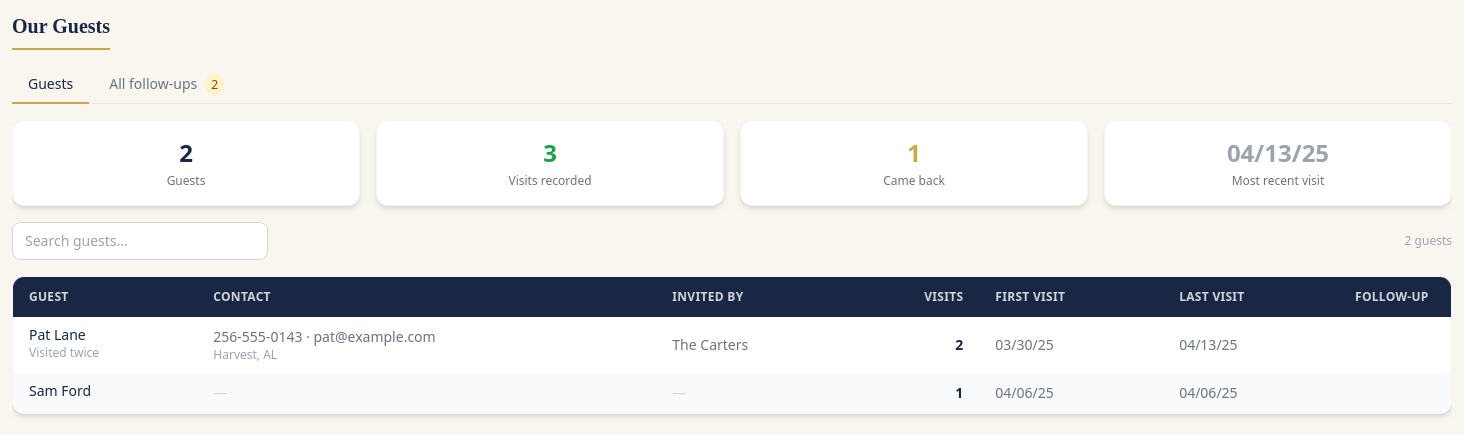
Test: VisitorTracker › searching matches a detail as well as a name
The width and height of the screenshot is (1464, 435).
Expected: the button "Pat Lane" is shown, top-left (29, 325), bottom-right (86, 345)
In the field with placeholder "Search guests…": (140, 241) top-left (12, 222), bottom-right (268, 260), type "carters"
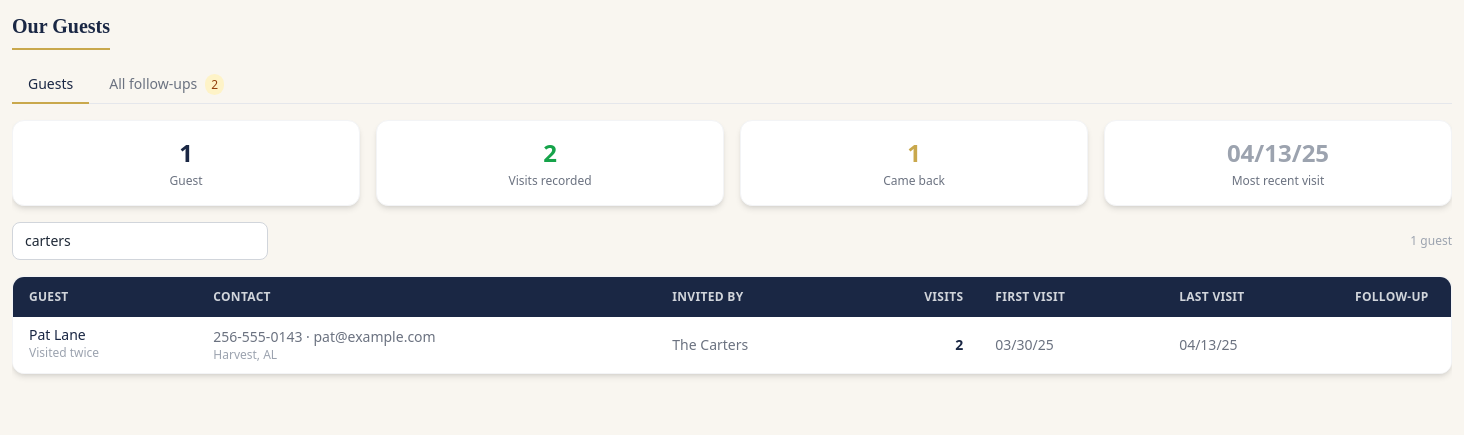
Expected: the button "Pat Lane" is shown, top-left (29, 325), bottom-right (86, 345)
Expected: the button "Sam Ford" is gone
